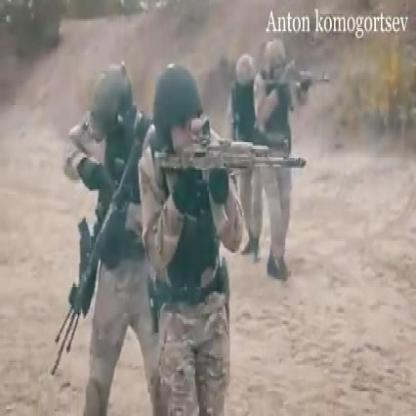Gun: (38, 114, 144, 390), (144, 125, 313, 263)
